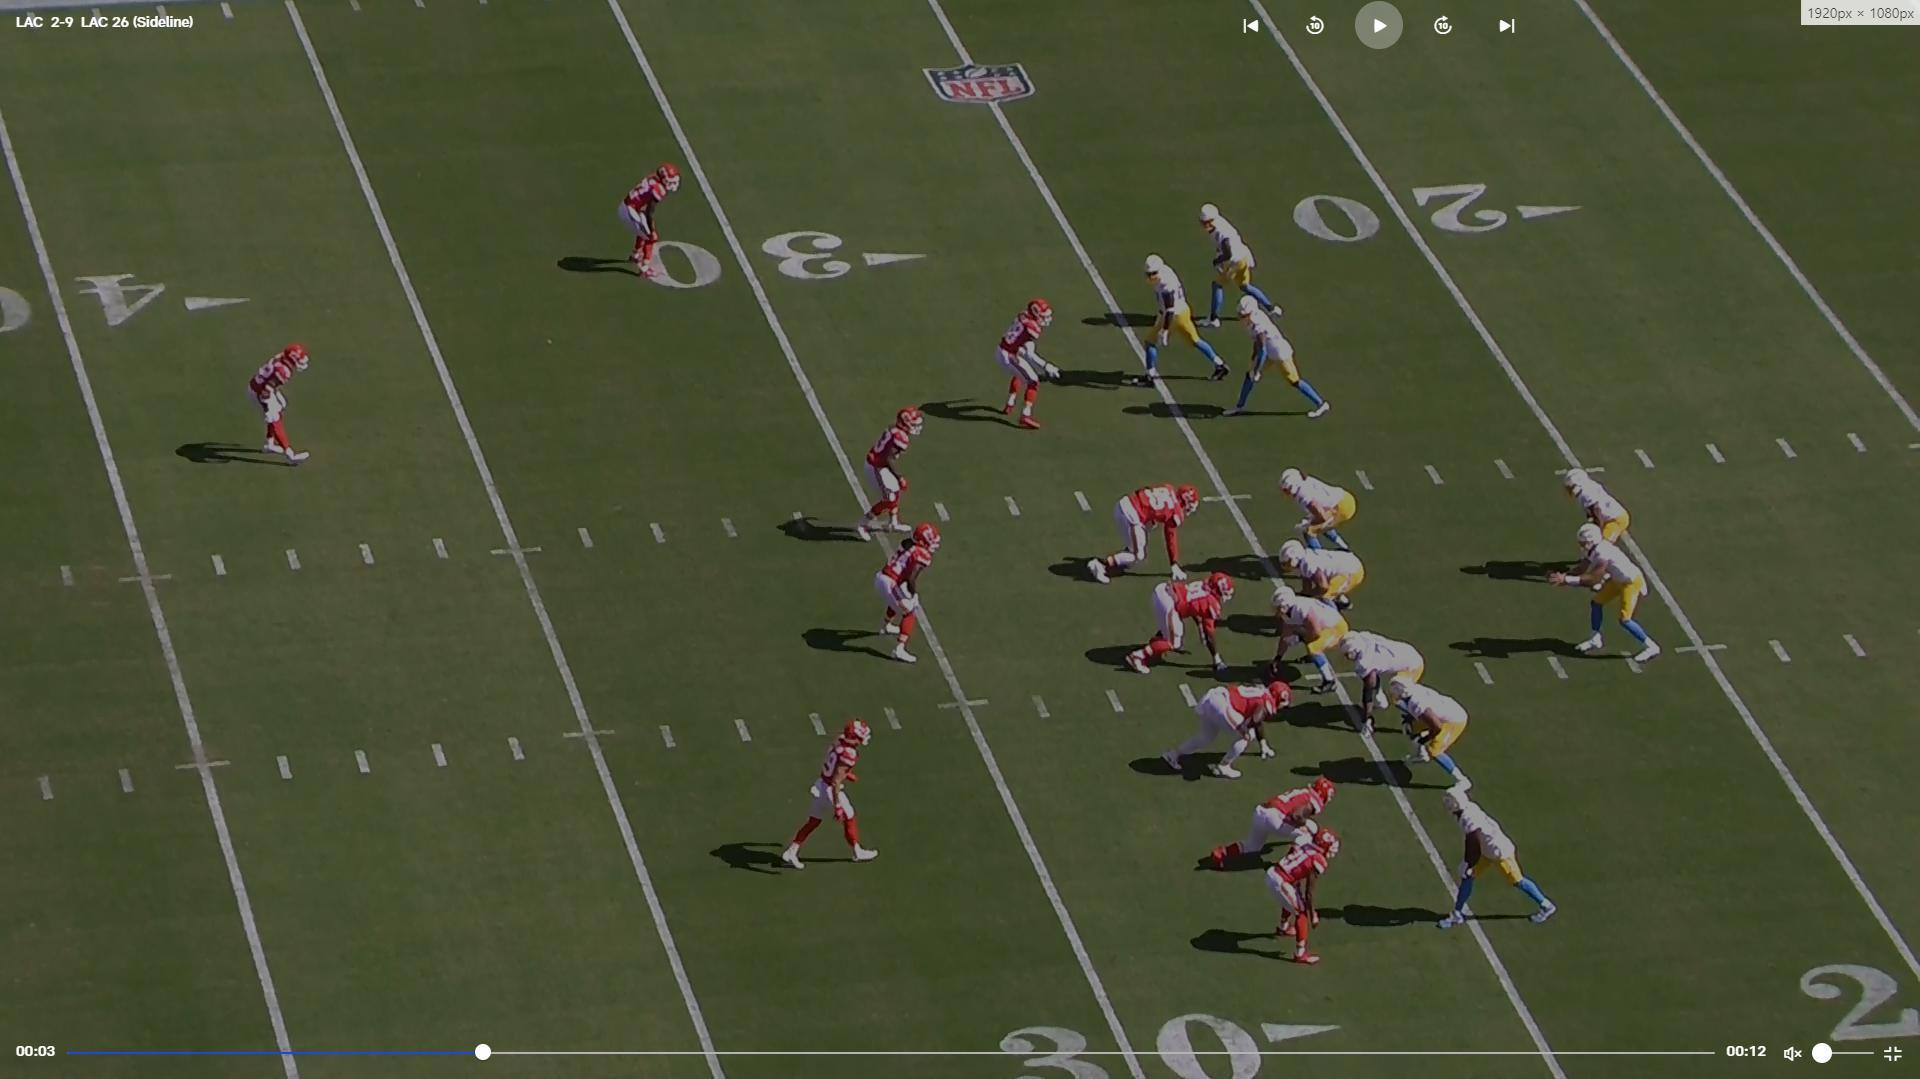player: (1443, 790, 1561, 932), (1563, 517, 1673, 669), (781, 718, 883, 877), (1165, 678, 1296, 784), (1232, 290, 1334, 426), (1204, 780, 1340, 879), (1136, 249, 1232, 383), (1081, 476, 1200, 581), (1124, 568, 1231, 673), (1195, 198, 1282, 327), (1265, 826, 1338, 974), (1387, 680, 1477, 797), (870, 523, 939, 669), (1331, 624, 1418, 739), (858, 405, 924, 548), (999, 294, 1061, 434), (252, 340, 317, 470), (1265, 583, 1349, 683), (619, 156, 685, 282), (1565, 467, 1633, 589), (1275, 465, 1354, 552), (1276, 541, 1362, 613)
